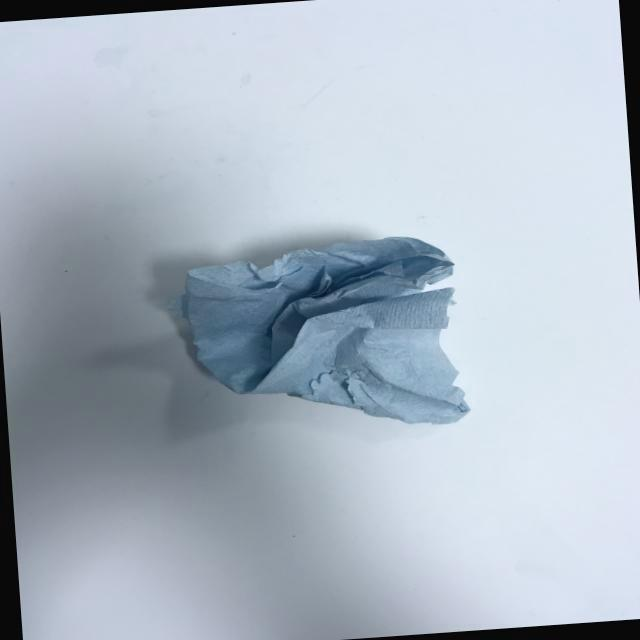paper: (173, 231, 475, 442)
